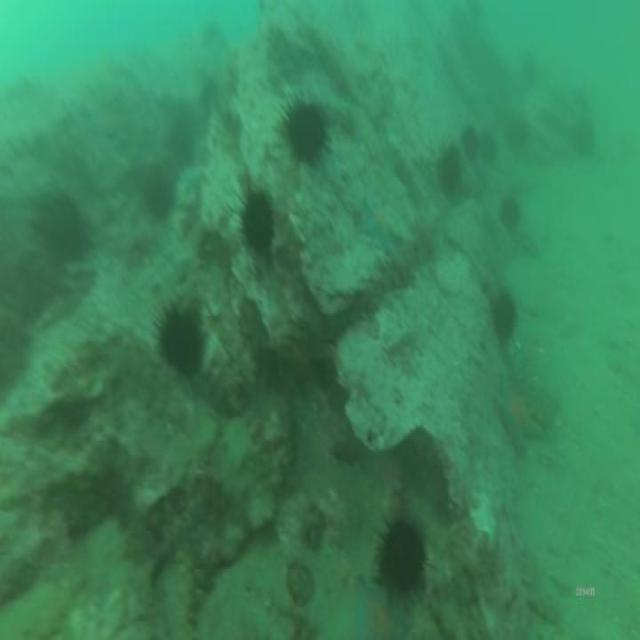echinus: (378, 520, 425, 588), (156, 311, 204, 370), (283, 100, 327, 161), (239, 188, 277, 251), (43, 205, 85, 256), (141, 164, 175, 215), (494, 292, 516, 336), (440, 147, 460, 191), (460, 125, 481, 163), (500, 196, 520, 234)
holothurian: (524, 547, 562, 624)
starfish: (352, 583, 409, 640), (494, 386, 539, 455)
